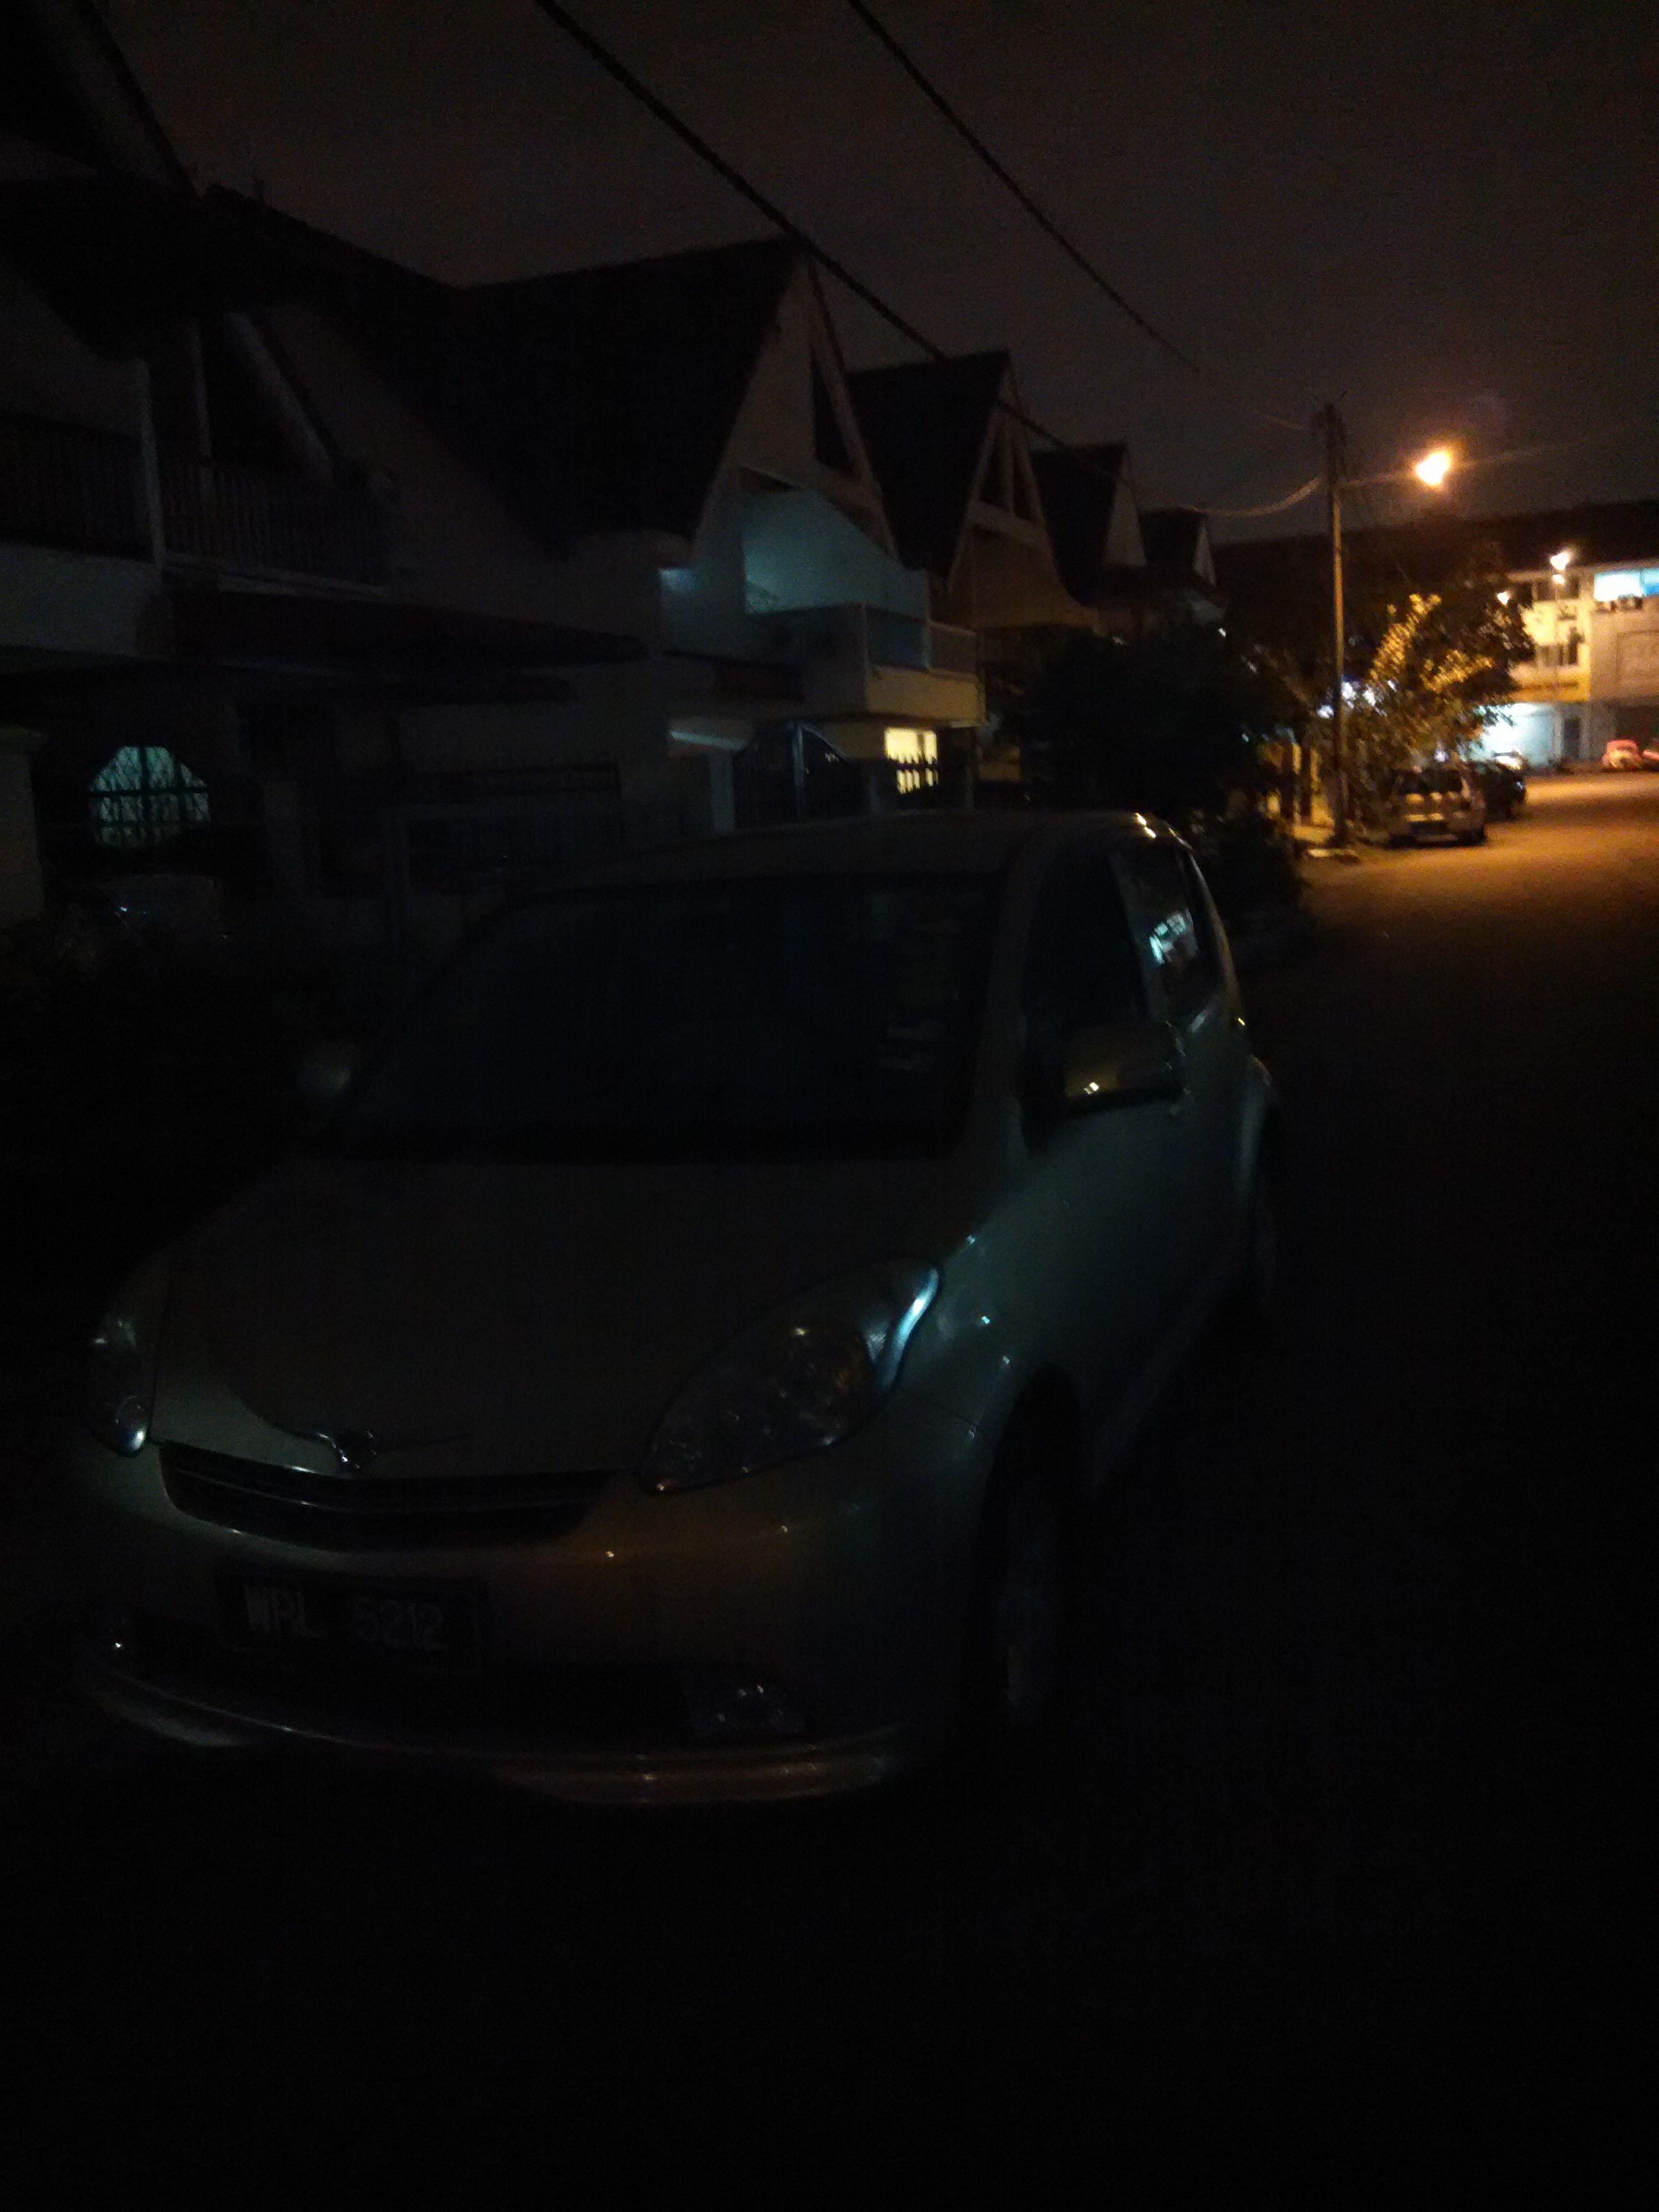car: (21, 772, 1342, 1886)
